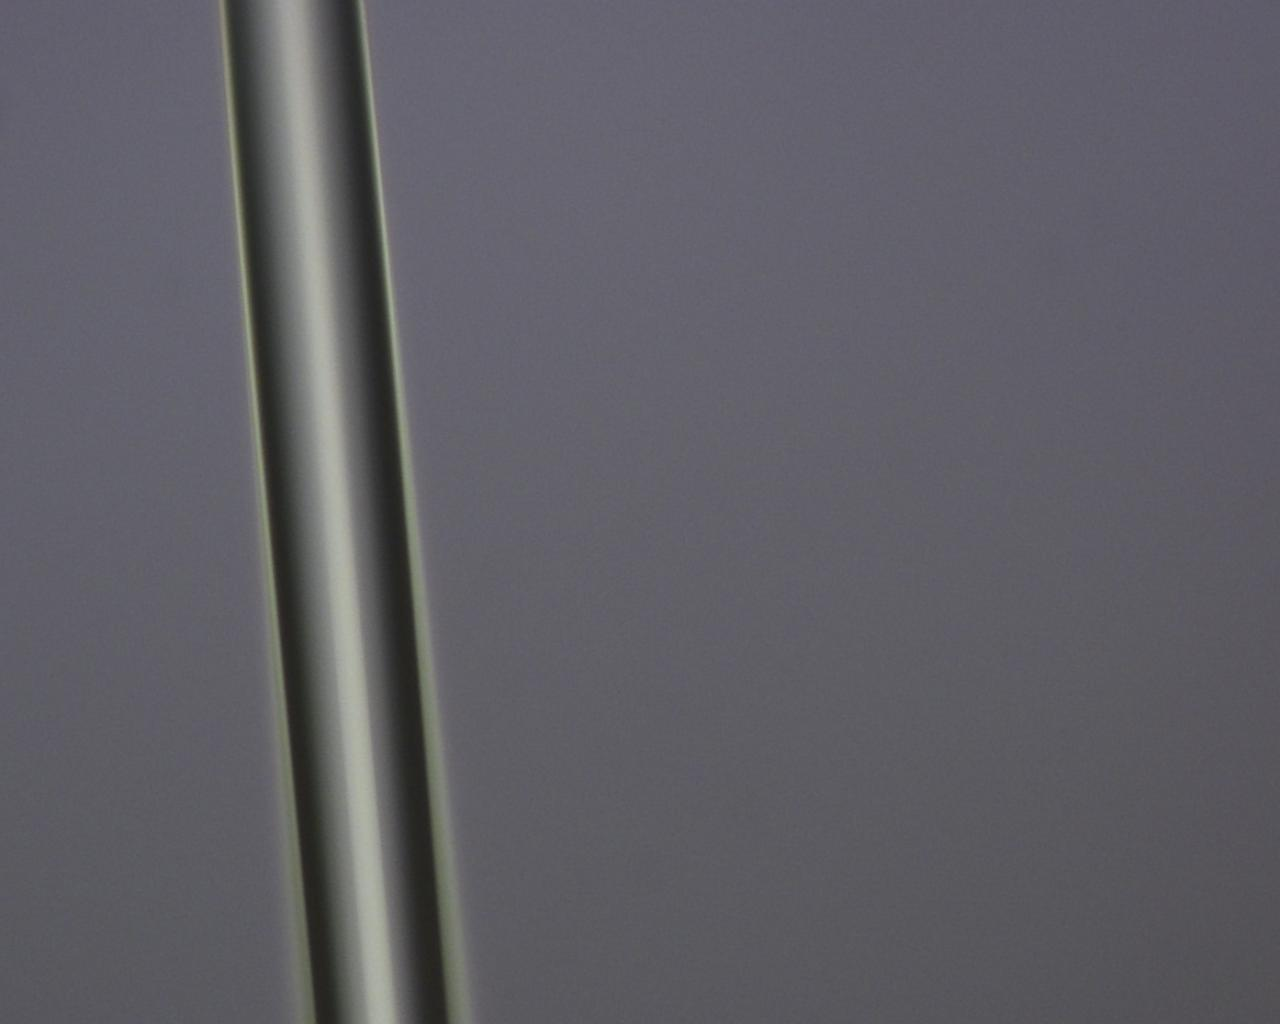fiber: (550, 590, 1280, 791), (0, 444, 550, 659), (48, 214, 550, 419), (784, 0, 1227, 133)
